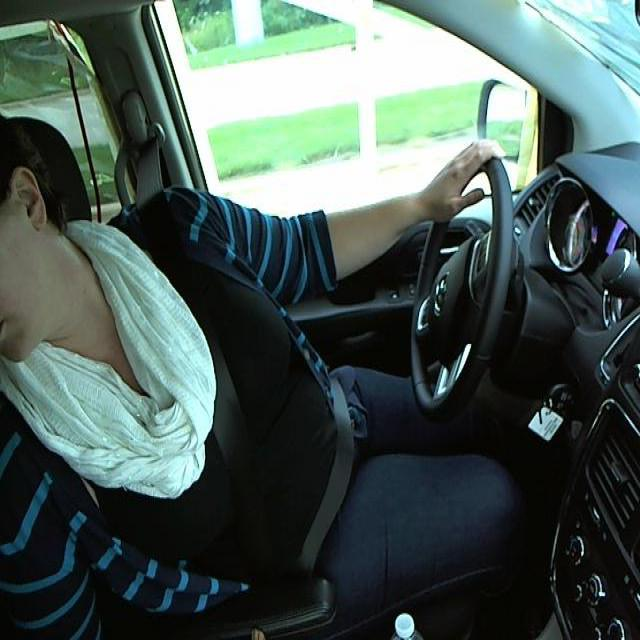seatbelt: (199, 381, 406, 619)
